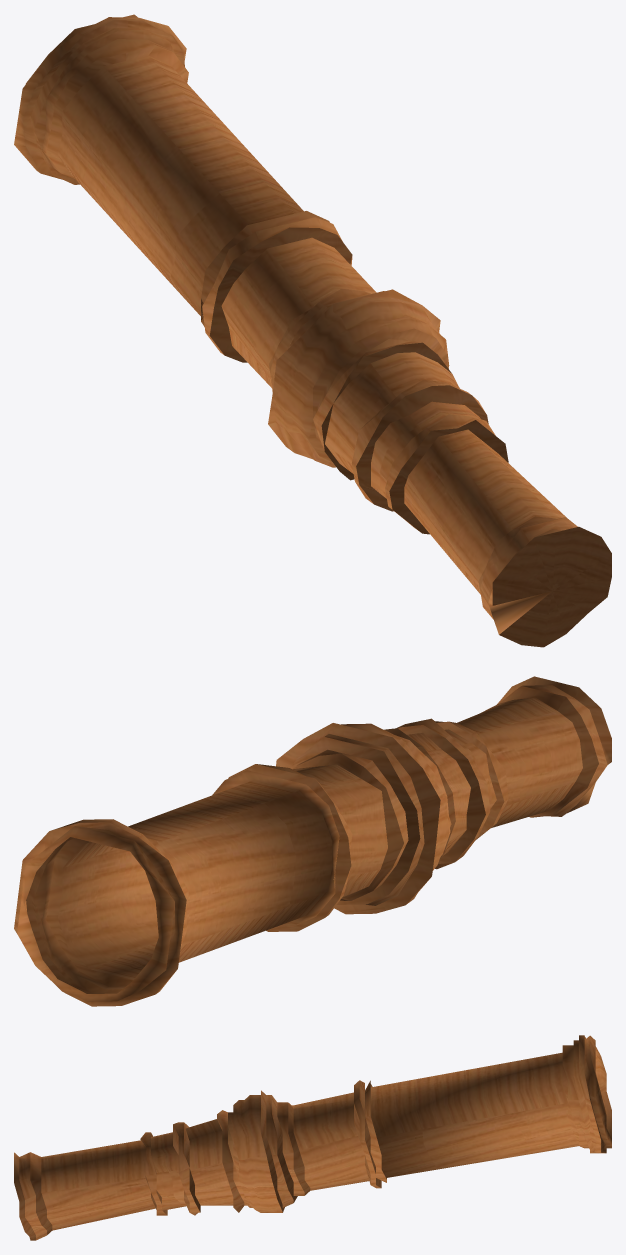
File: cannon.obj
3 views of the same model, one above another, from view 1: azimuth 30°, elevation 25°; view 2: azimuth 150°, elevation 25°; view 3: azimuth 270°, elevation 25° (orthographic). The views are drawn at different scales.
Visible parts, largest first — view 1: CANOM; view 2: CANOM; view 3: CANOM.
Part boxes in pixels (left/top/right/bottom): CANOM: left=14, top=14, right=611, bottom=647; CANOM: left=14, top=676, right=611, bottom=1006; CANOM: left=14, top=1035, right=611, bottom=1240.
Bounding box in the file's own units: 0.0022 × 0.004 × 0.0109.
